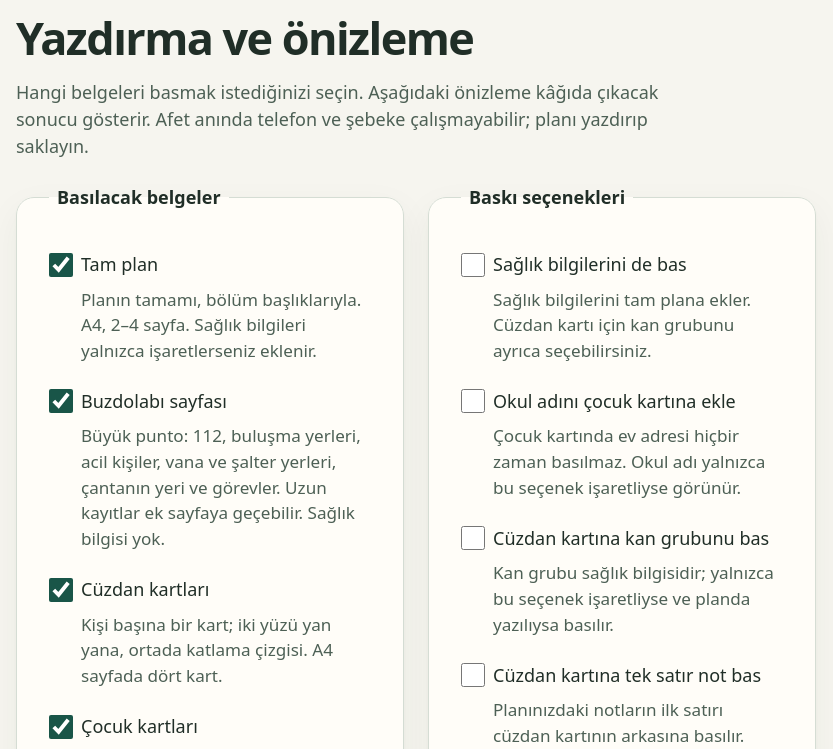
Print sayfası (§12) › hiç belge seçilmezse önizleme yerine uyarı gösterir
The image size is (833, 749).
Click the checkbox labelled "Tam plan". click: (61, 264)
box: [49,252,73,276]
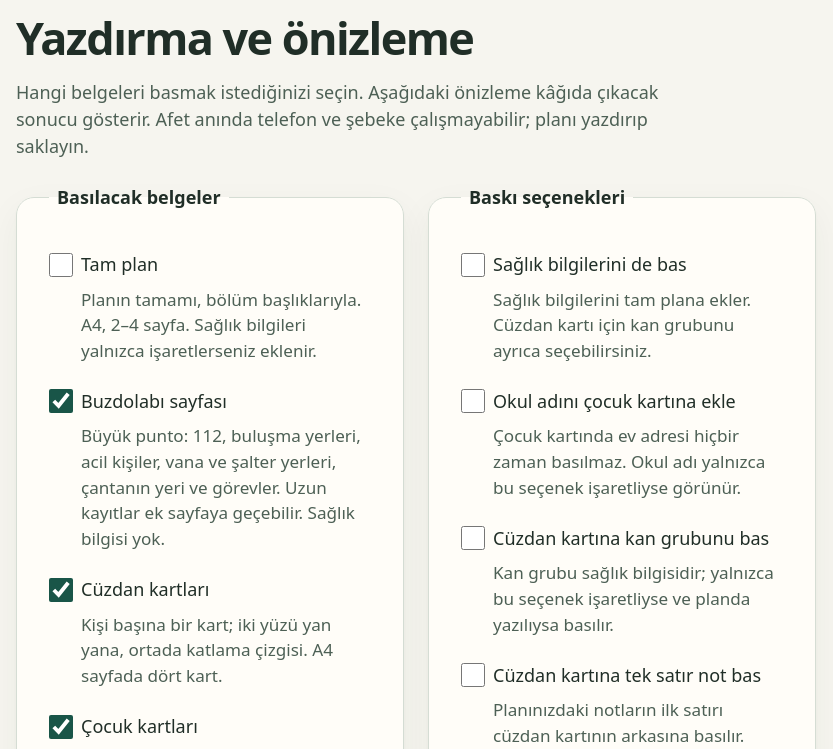
Click the checkbox labelled "Buzdolabı sayfası". click: (61, 401)
box: [49,389,73,413]
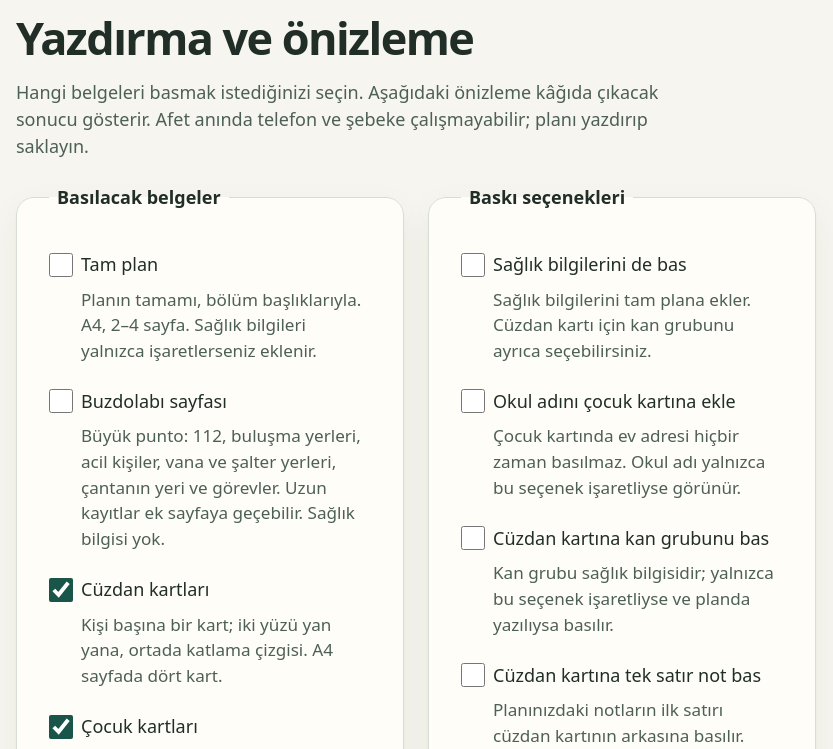
Click the checkbox labelled "Cüzdan kartları". click: (61, 590)
box: [49,578,73,602]
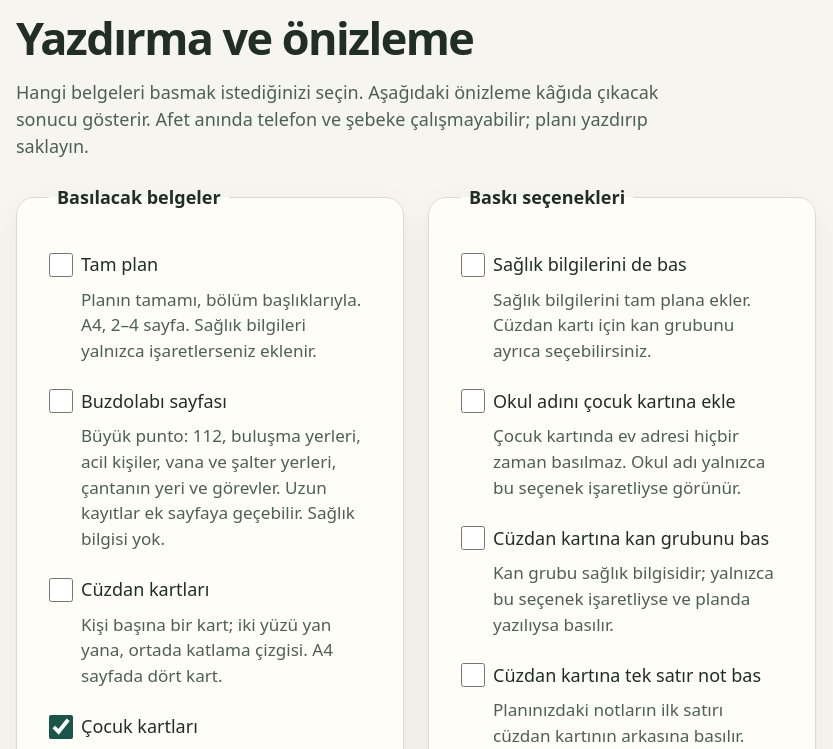
Click the checkbox labelled "Çocuk kartları". click: (61, 726)
box: [49,714,73,738]
(page scrolled)
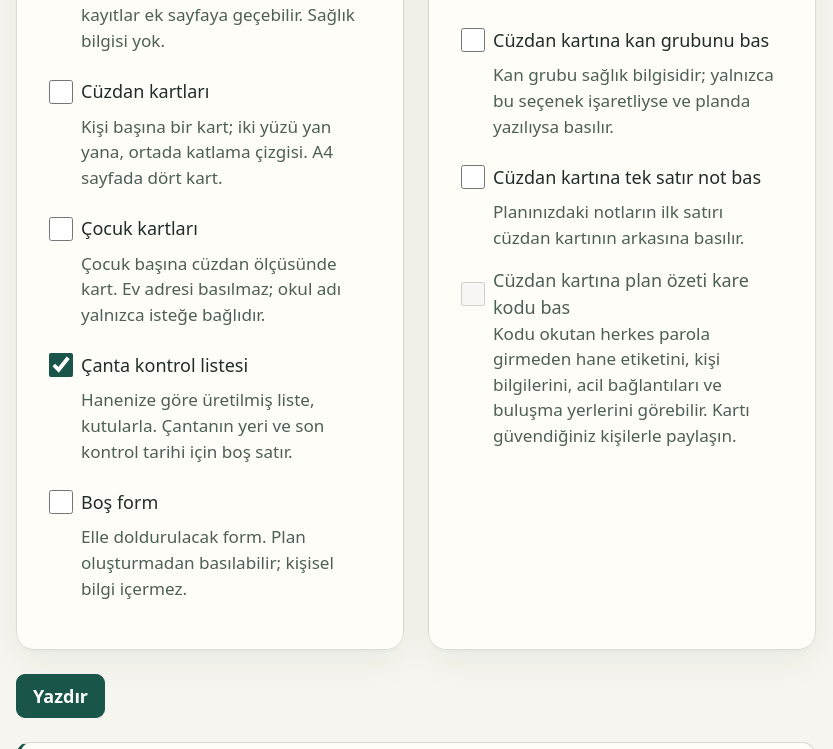
Click the checkbox labelled "Çanta kontrol listesi". click: (61, 366)
box: [49,354,73,378]
(page scrolled)
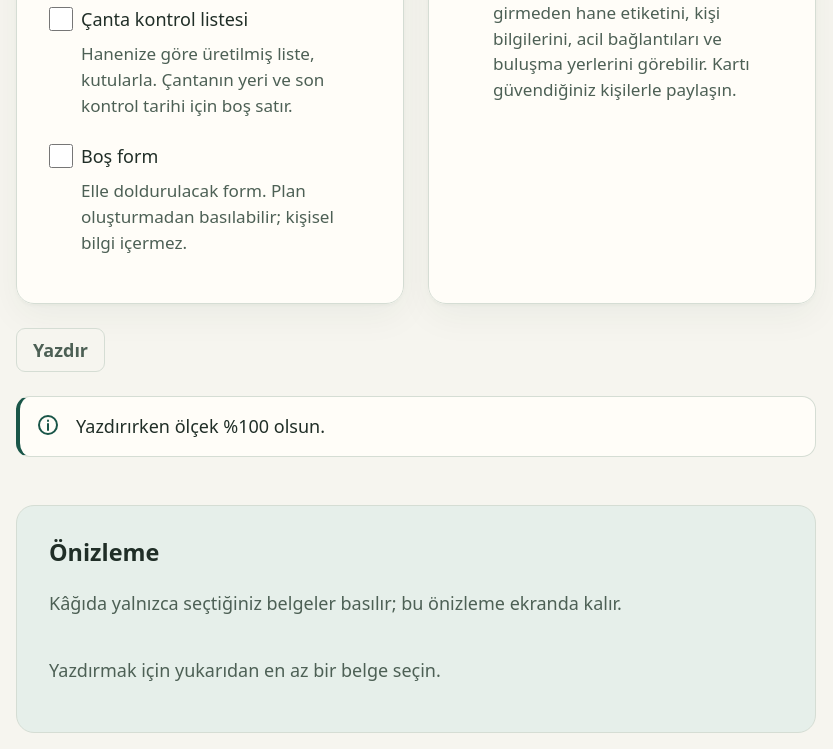
Check: the text "Yazdırmak için yukarıdan en az bir belge seçin." is shown, box [49,658,441,682]
